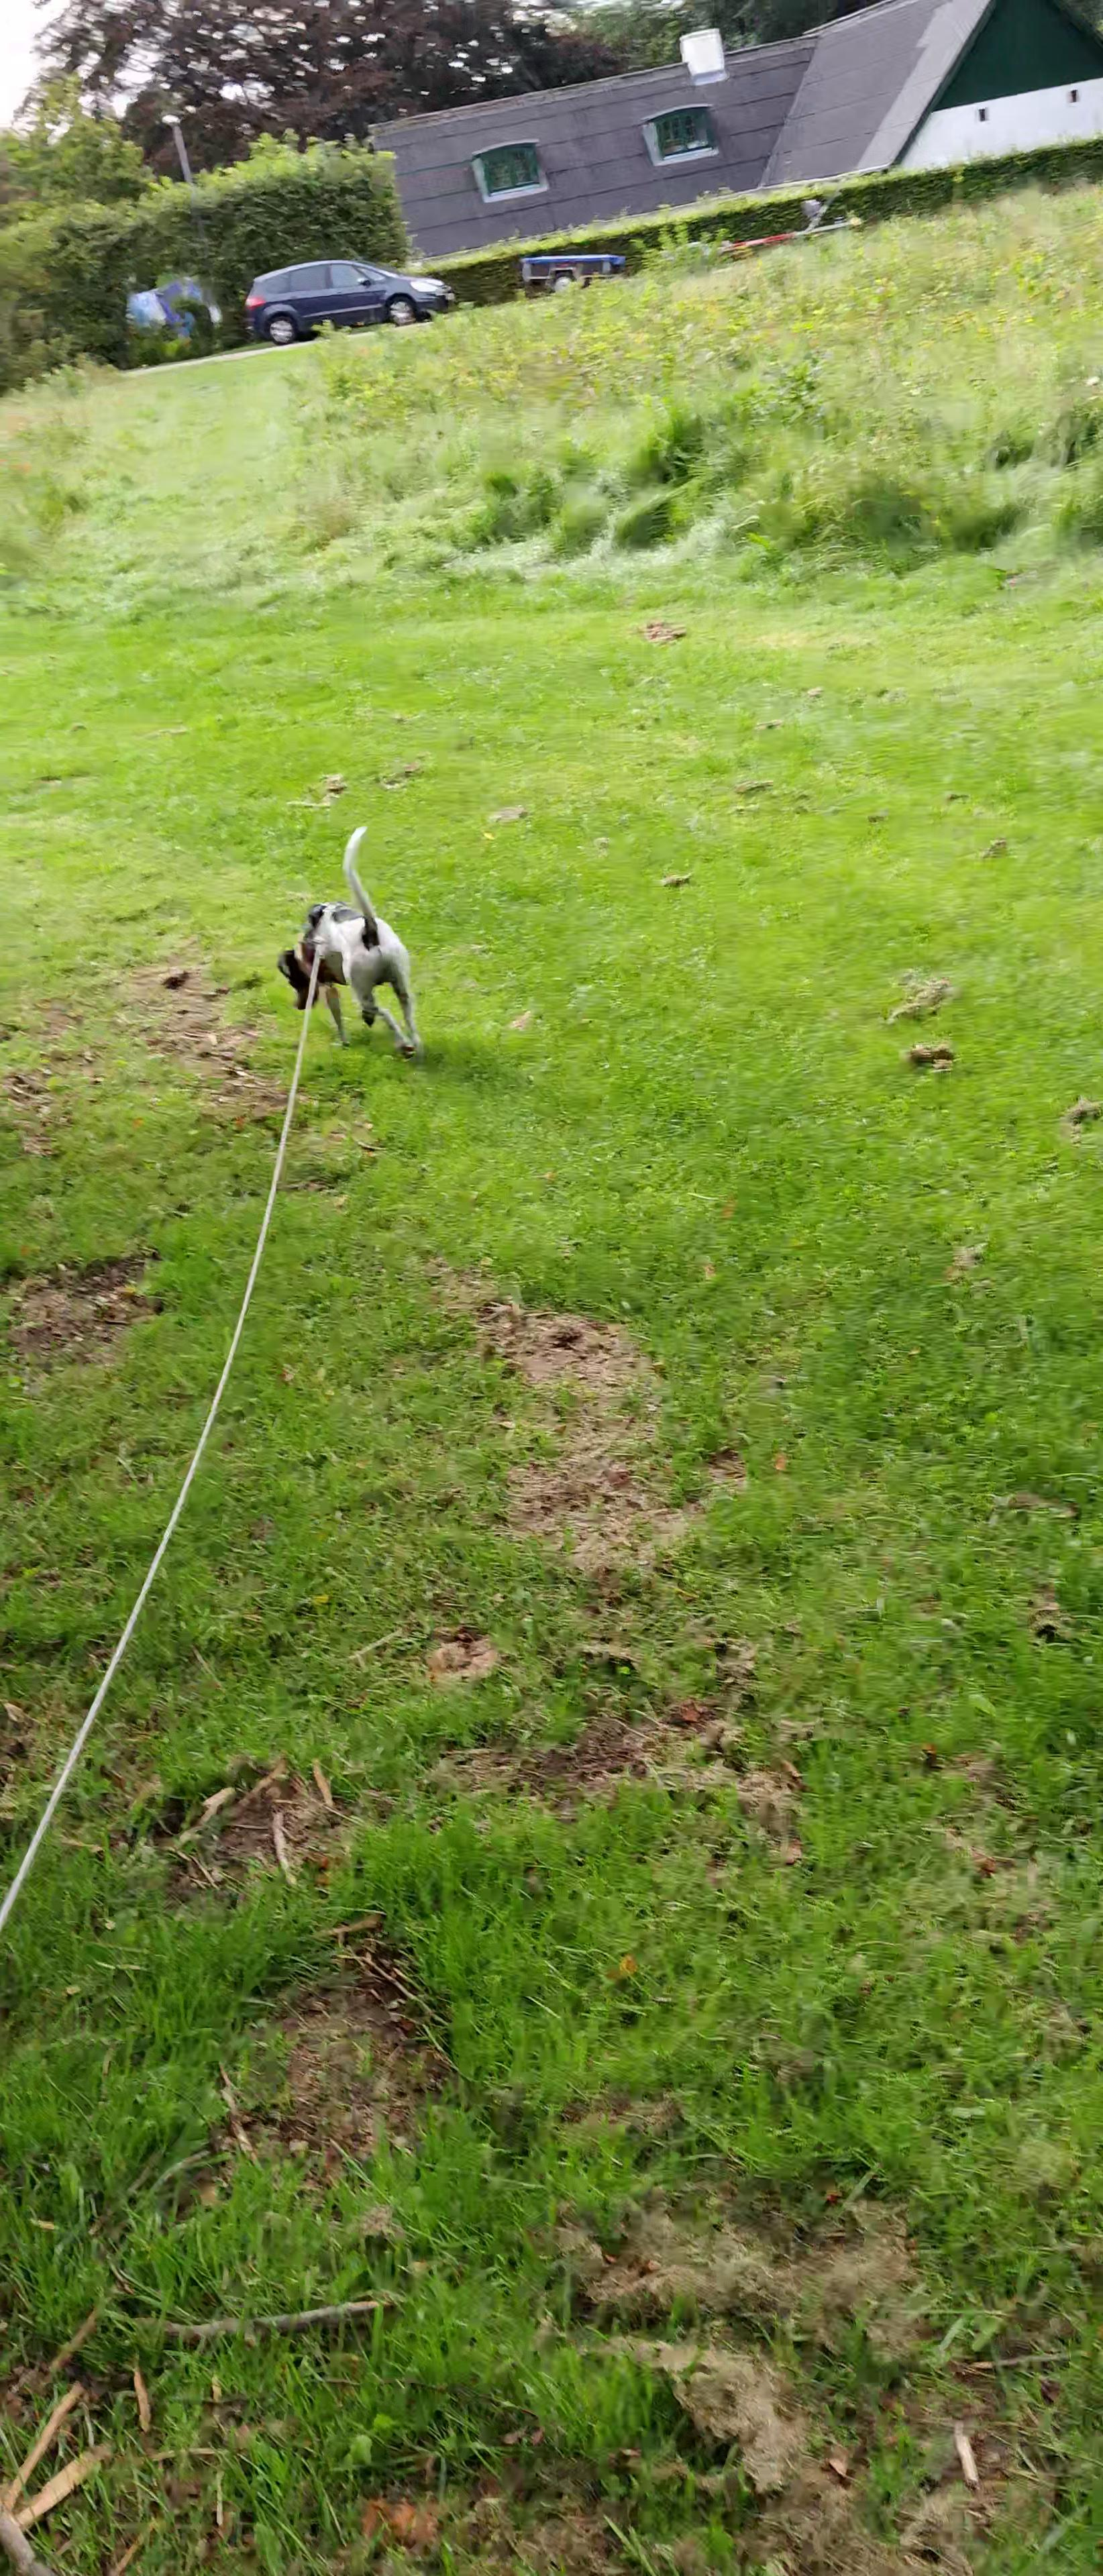Dog: (276, 821, 431, 1058)
